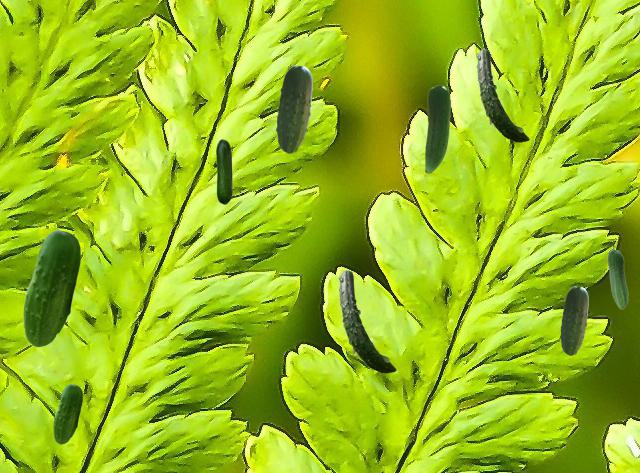cucumber: (23, 230, 79, 346), (338, 270, 395, 372), (476, 49, 528, 141), (276, 65, 311, 152), (425, 85, 449, 172), (560, 286, 587, 354), (53, 384, 81, 443), (607, 249, 627, 308), (216, 139, 231, 203)
